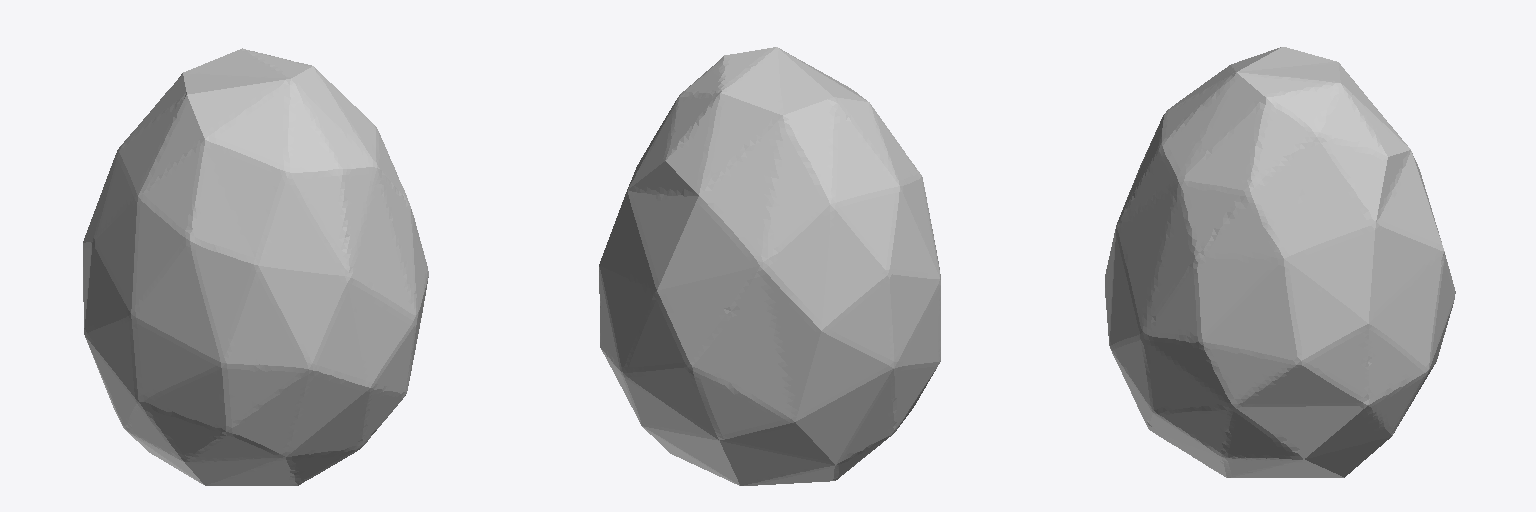
Rendered from model_40_segmented_new.obj.
3 renders of one model, left to right at view 1: azimuth 30°, elevation 25°; view 2: azimuth 150°, elevation 25°; view 3: azimuth 270°, elevation 25°, orthographic.
Bounding box in the file's own units: 51.96 × 63.19 × 52.89.